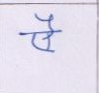e_matra: (35, 13, 57, 30)
